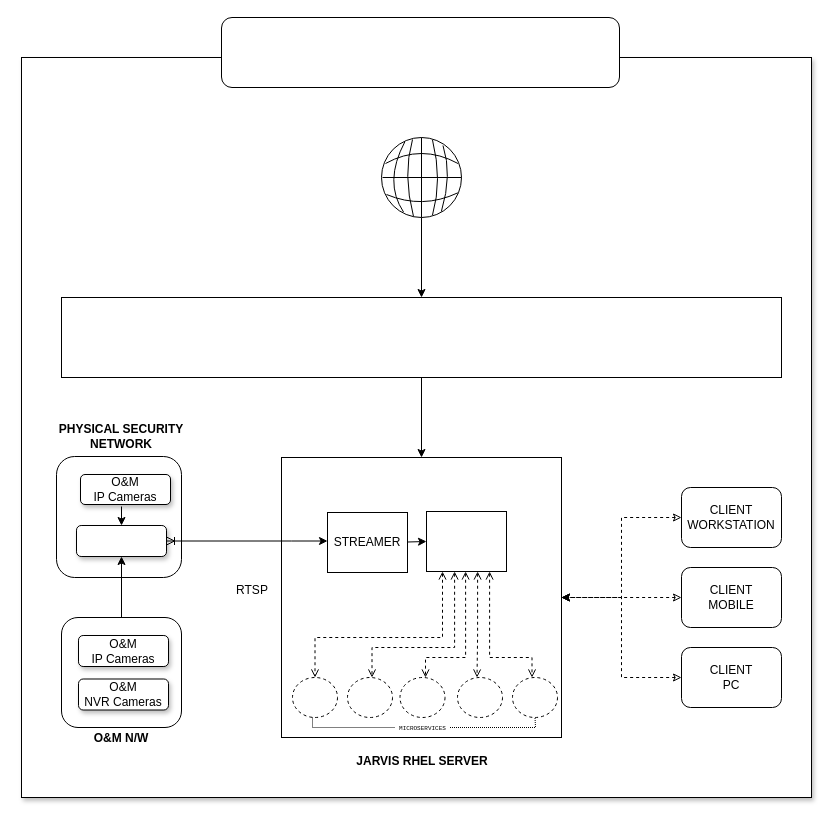
Image size: 835x822. Some labels were removed from this diagram. The shapes that lost their labels are listed below. From the top down, each one's centre as x and y in pixels, then its label:
the point at 420,52: Jarvis @ APL, Raigarh
the point at 421,337: FIREWALL (with rule whitelisting)
the point at 122,542: GENETEC VMS
the point at 466,541: JARVIS
